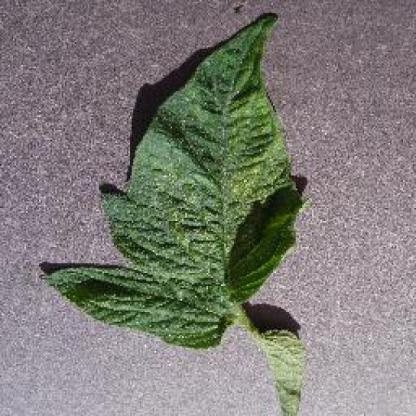Tomato_Spider_Mites: (44, 14, 302, 345)
